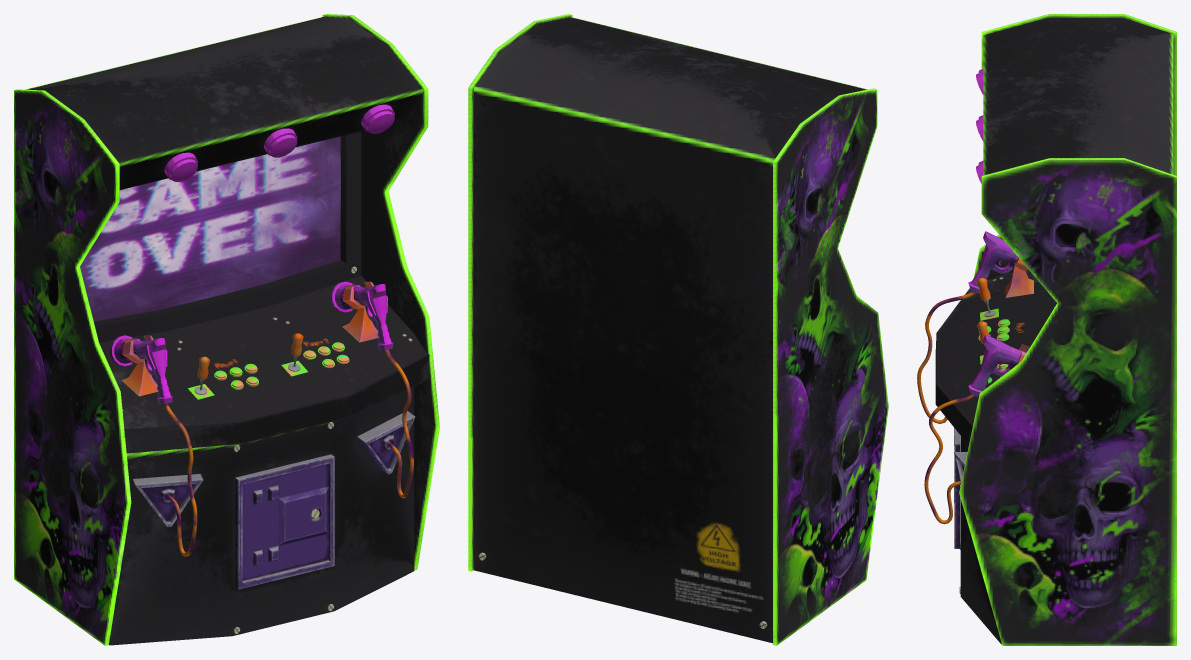
The picture shows the model from 3 angles, left to right: view 1: azimuth 30°, elevation 25°; view 2: azimuth 150°, elevation 25°; view 3: azimuth 270°, elevation 25°; orthographic projection. The views are drawn at different scales.
Visible parts, largest first — view 1: BaseArcade, LateralIzquierdo, Pantalla1, Pantalla, LateralDerecho, Tablero_Inferior, MarcoPantalla, Pistola_Pistola (×2), BasePistola (×2), Conector1, Conector2, Cable1 (+4 smaller); view 2: BaseArcade, LateralIzquierdo, LateralDerecho; view 3: LateralDerecho, BaseArcade, Pistola_Pistola (×2), LateralIzquierdo, Cable2, Cable1, BasePistola, Tablero_Inferior.
Boxes of the visible parts, <box> form: BaseArcade: <box>25,16,429,645</box>; LateralIzquierdo: <box>14,89,131,645</box>; Pantalla1: <box>80,136,340,320</box>; Pantalla: <box>80,136,340,321</box>; LateralDerecho: <box>322,14,439,570</box>; Tablero_Inferior: <box>235,454,334,589</box>; MarcoPantalla: <box>93,131,361,342</box>; Pistola_Pistola (×2): <box>110,281,393,404</box>; BasePistola (×2): <box>122,281,378,396</box>; Conector1: <box>133,474,203,526</box>; Conector2: <box>357,411,415,474</box>; Cable1: <box>164,403,197,556</box>; BaseArcade: <box>473,17,867,643</box>; LateralIzquierdo: <box>773,88,888,645</box>; LateralDerecho: <box>468,14,572,571</box>; LateralDerecho: <box>959,158,1176,645</box>; BaseArcade: <box>935,17,1173,644</box>; Pistola_Pistola (×2): <box>968,231,1030,396</box>; LateralIzquierdo: <box>974,14,1176,279</box>; Cable2: <box>924,394,974,524</box>; Cable1: <box>917,291,975,423</box>; BasePistola: <box>1005,258,1033,297</box>; Tablero_Inferior: <box>954,428,960,548</box>.
Size of the model in its own units: 0.0999 by 0.1552 by 0.0751.
13 materials, 13 textured.
